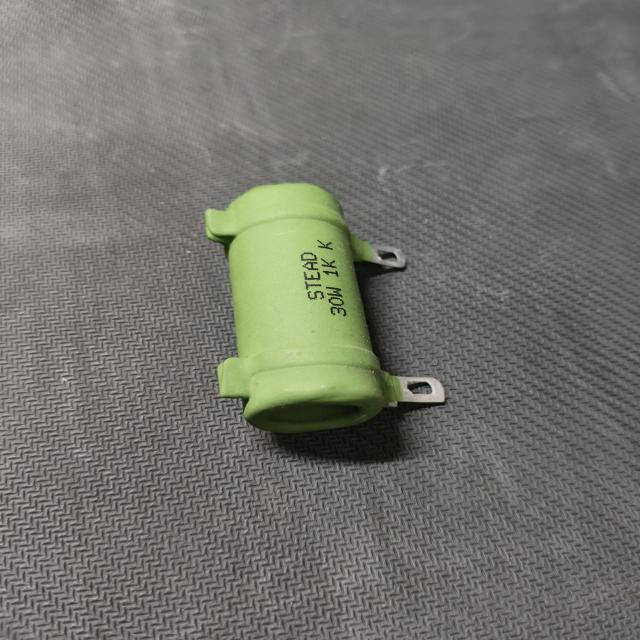resistor: (196, 175, 461, 441)
